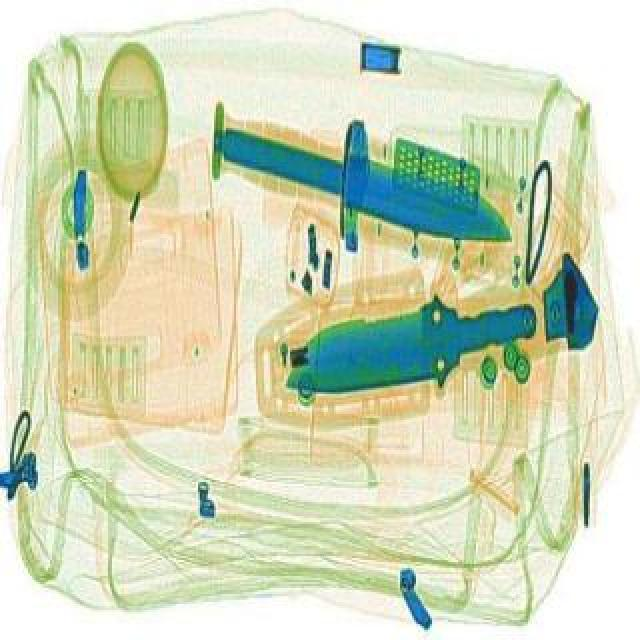knife: (166, 66, 538, 294), (262, 262, 550, 418)
